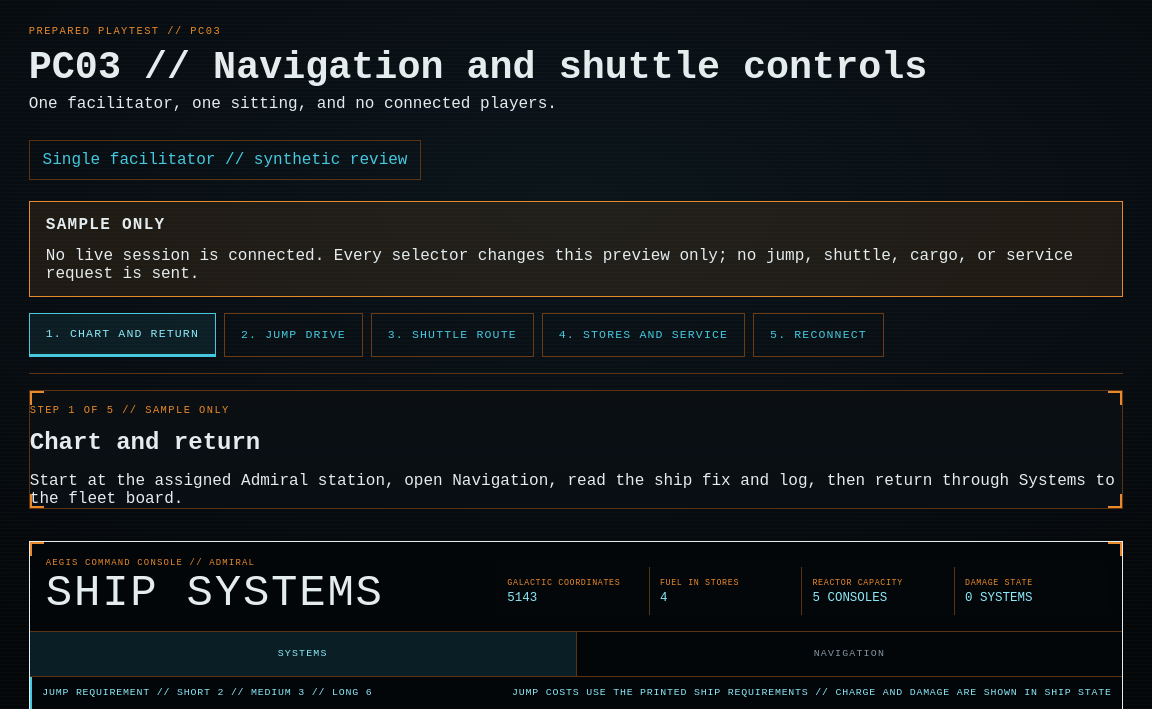
Scenario: walks the production shuttle presentation through docking, transit, retarget, airspace, and arrival
Click the button "3. Shuttle route" at (452, 335), box [371,313,534,357]
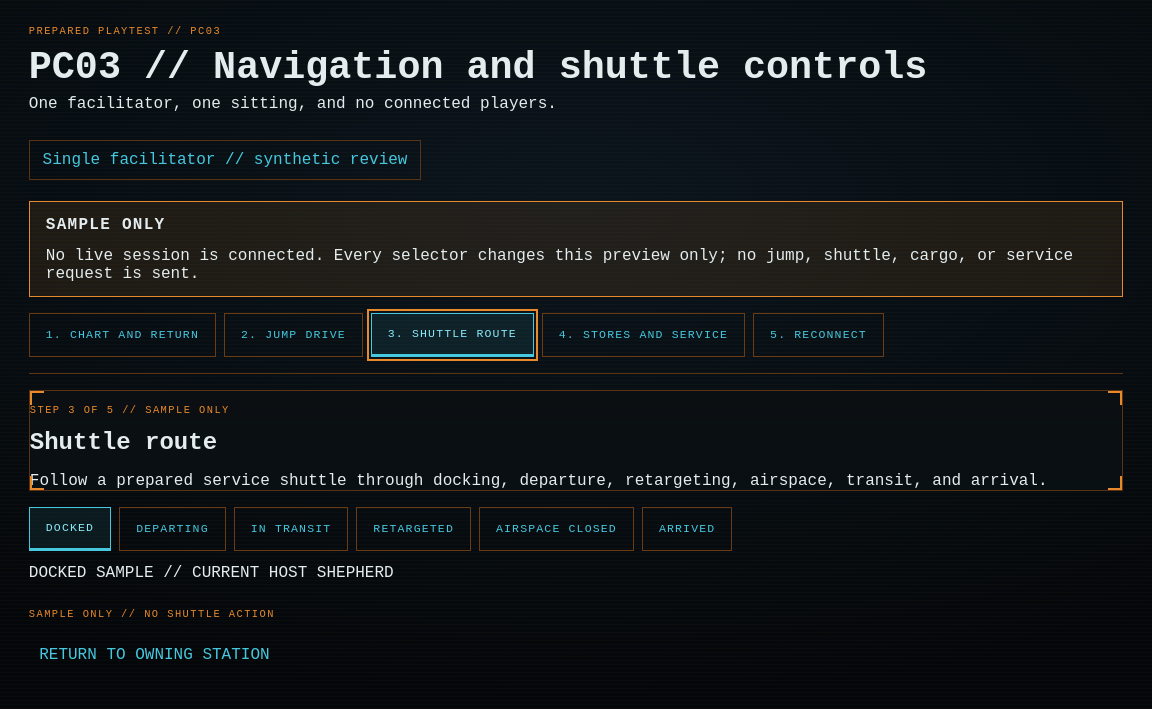
Expected: the button "Docked" is shown, [29,507,111,551]
Expected: the button "Departing" is shown, [119,507,226,551]
Expected: the button "In transit" is shown
Click the button "In transit" at (291, 529), box [234,507,348,551]
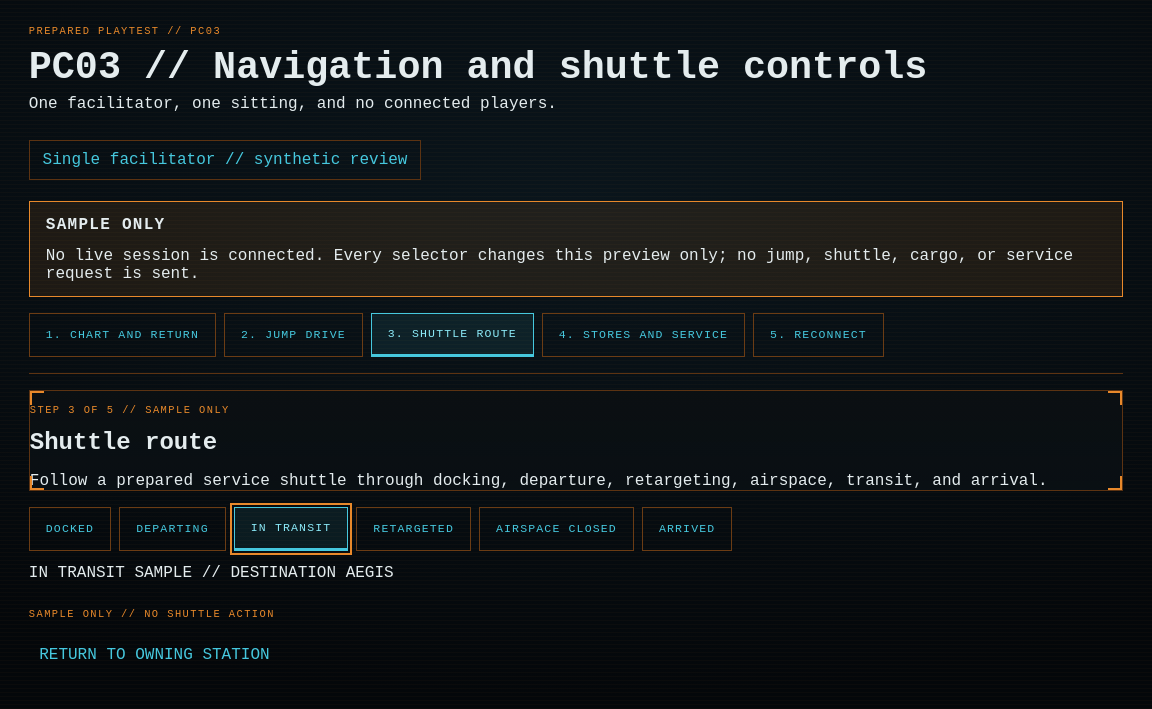
Click the button "Retargeted" at (414, 529), box [356,507,471,551]
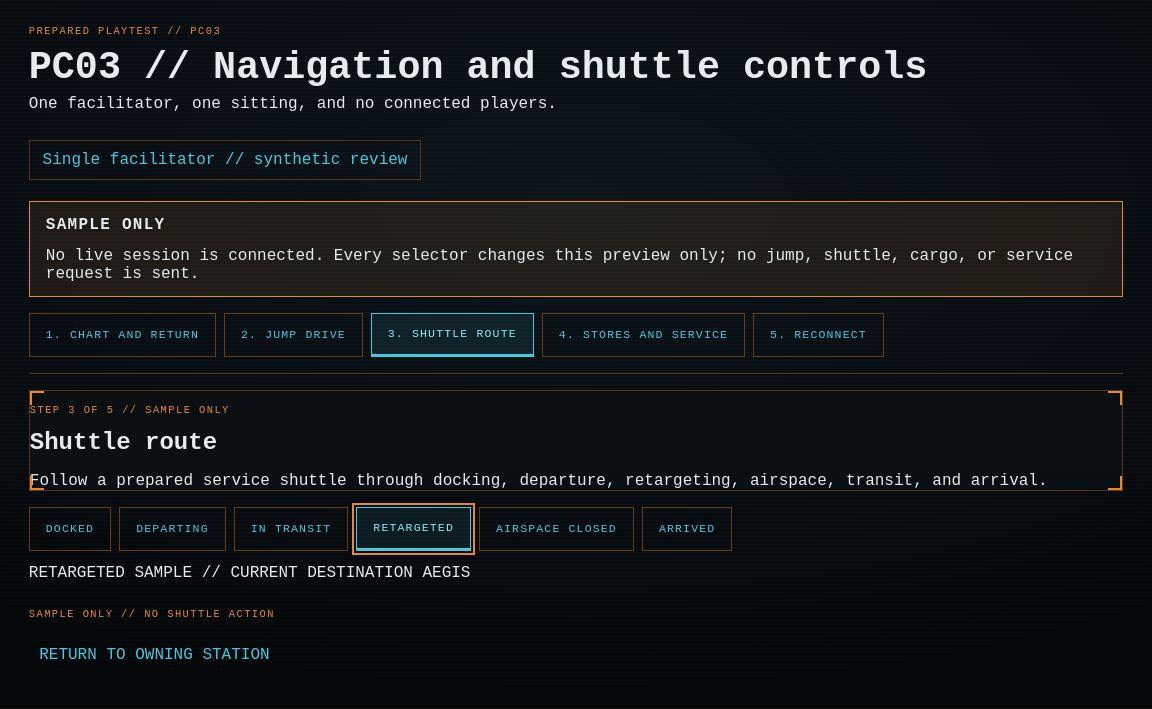
Expected: the message named "Prepared shuttle outcome" reads "RETARGETED SAMPLE // CURRENT DESTINATION AEGIS", [29,564,470,582]
Click the button "Arrived" at (687, 529), box [642,507,732,551]
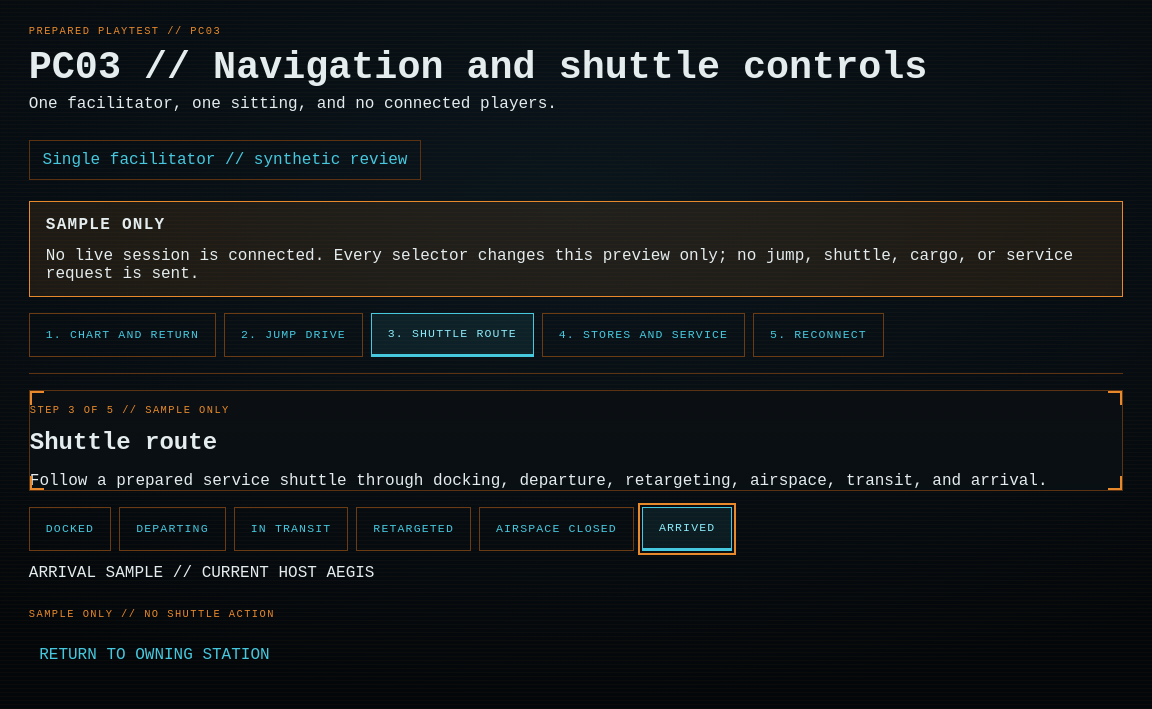
Click the button "Return to owning station" at (154, 655), box [29,633,280,677]
(page scrolled)
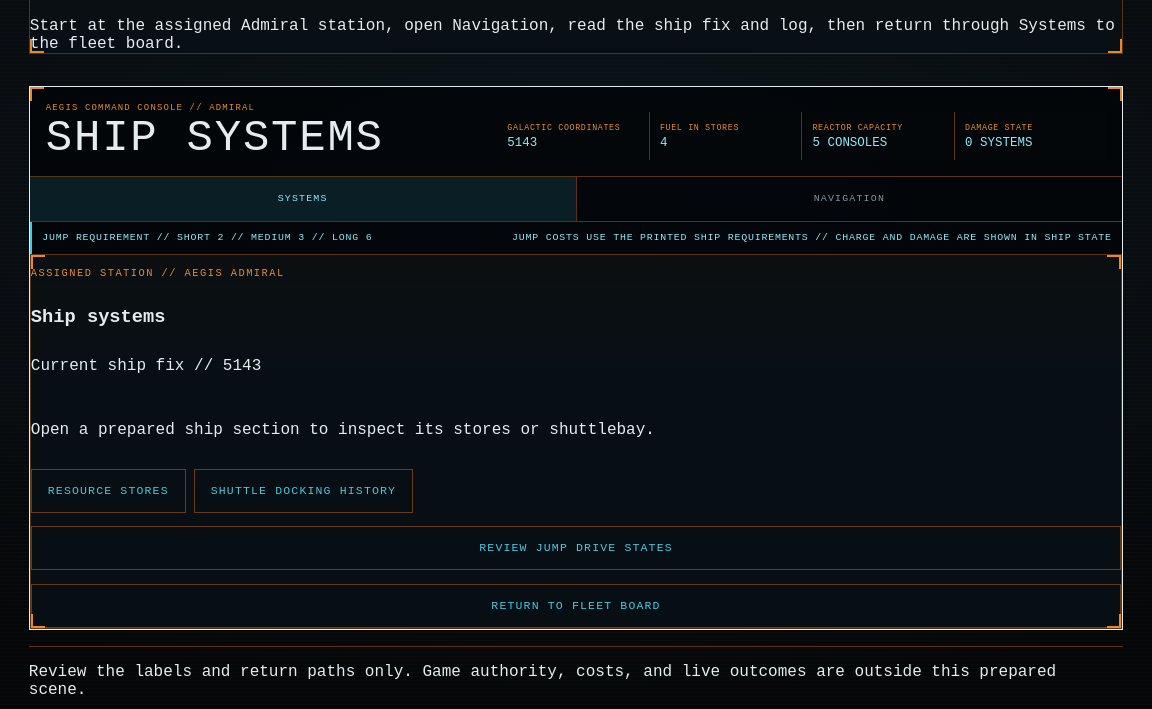
Expected: the element named "Prepared assigned station" is shown
